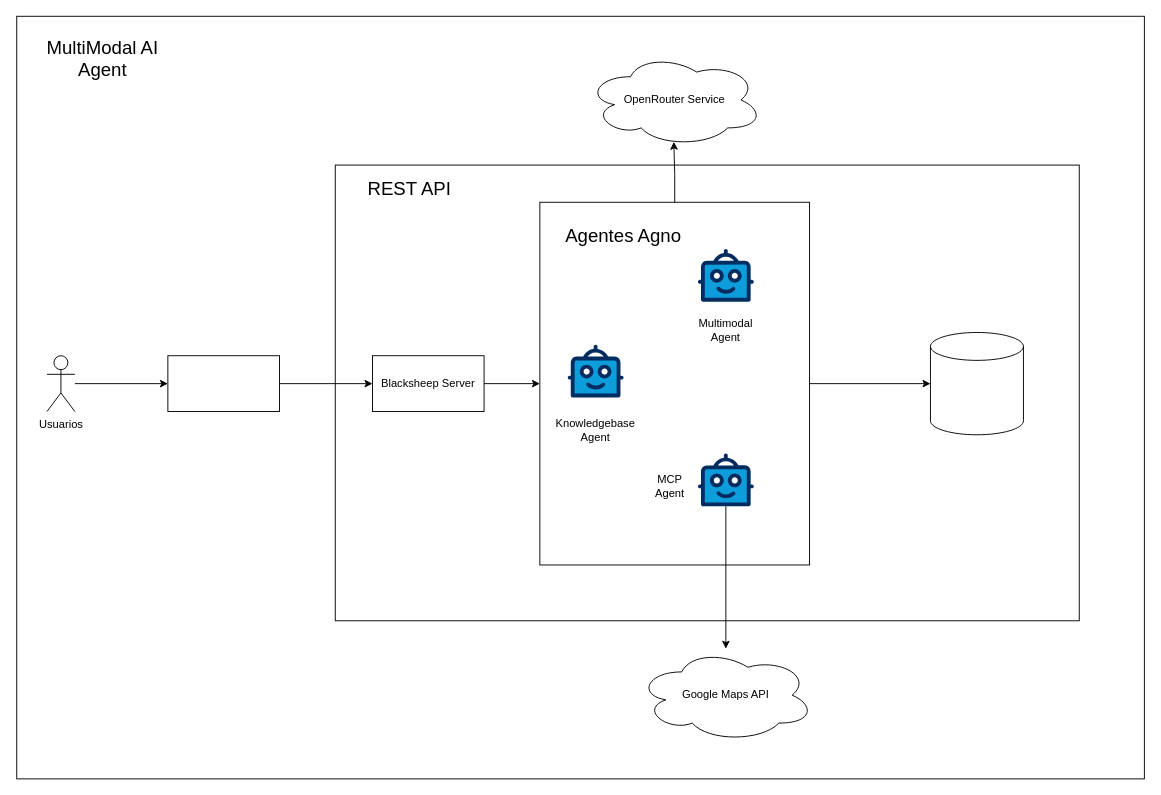
Some shapes in this 1161 by 795 pixel diagram are drawn without their labels. The centre of each missing label's shape, as x and y in pixels:
"PostgerSQL" belongs at (976,383).
"UI (React)" belongs at (223,383).
